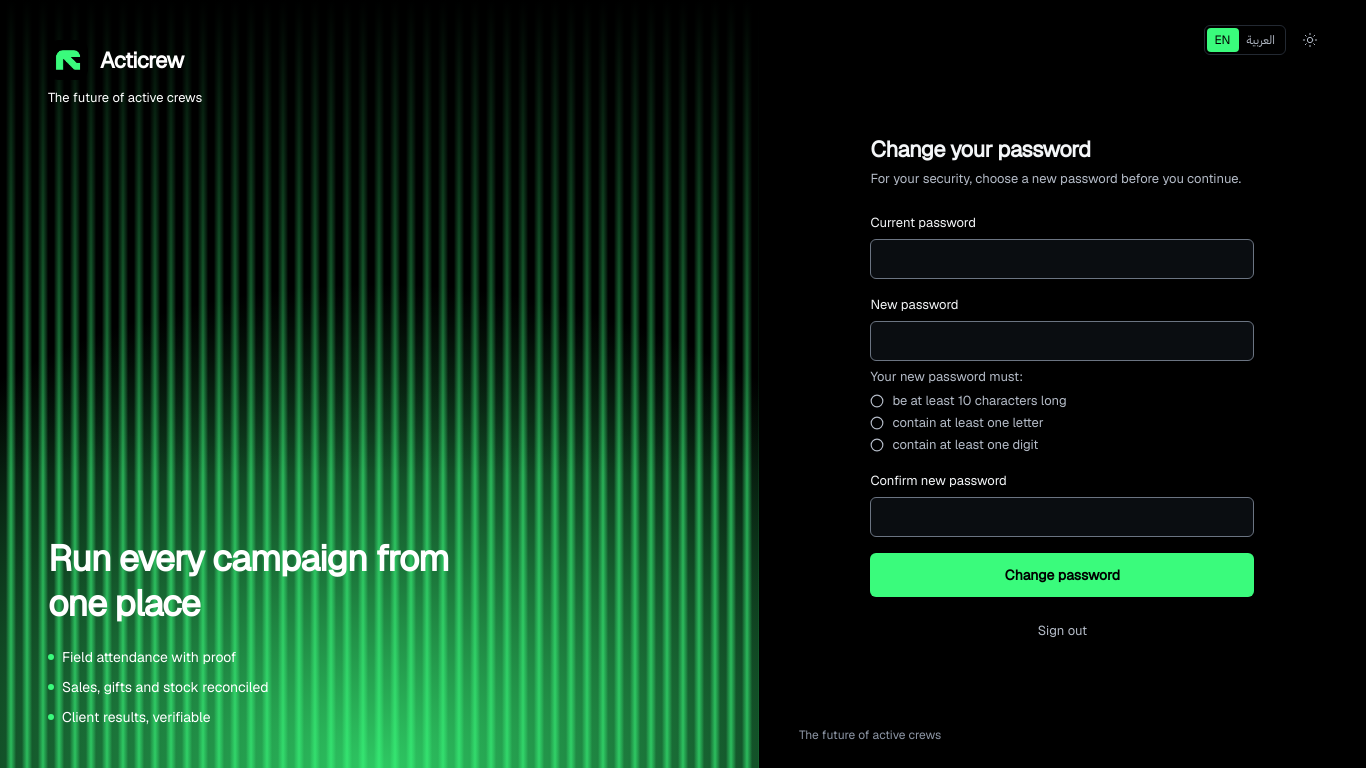
Test: change password page › maps CURRENT_PASSWORD_INCORRECT to the current-password field
Expected: the heading "Change your password" is shown, [870,134,1090,162]
Type "wrong-pass-1" into the password field labelled "Current password" at (1062, 258), box [870,238,1254,278]
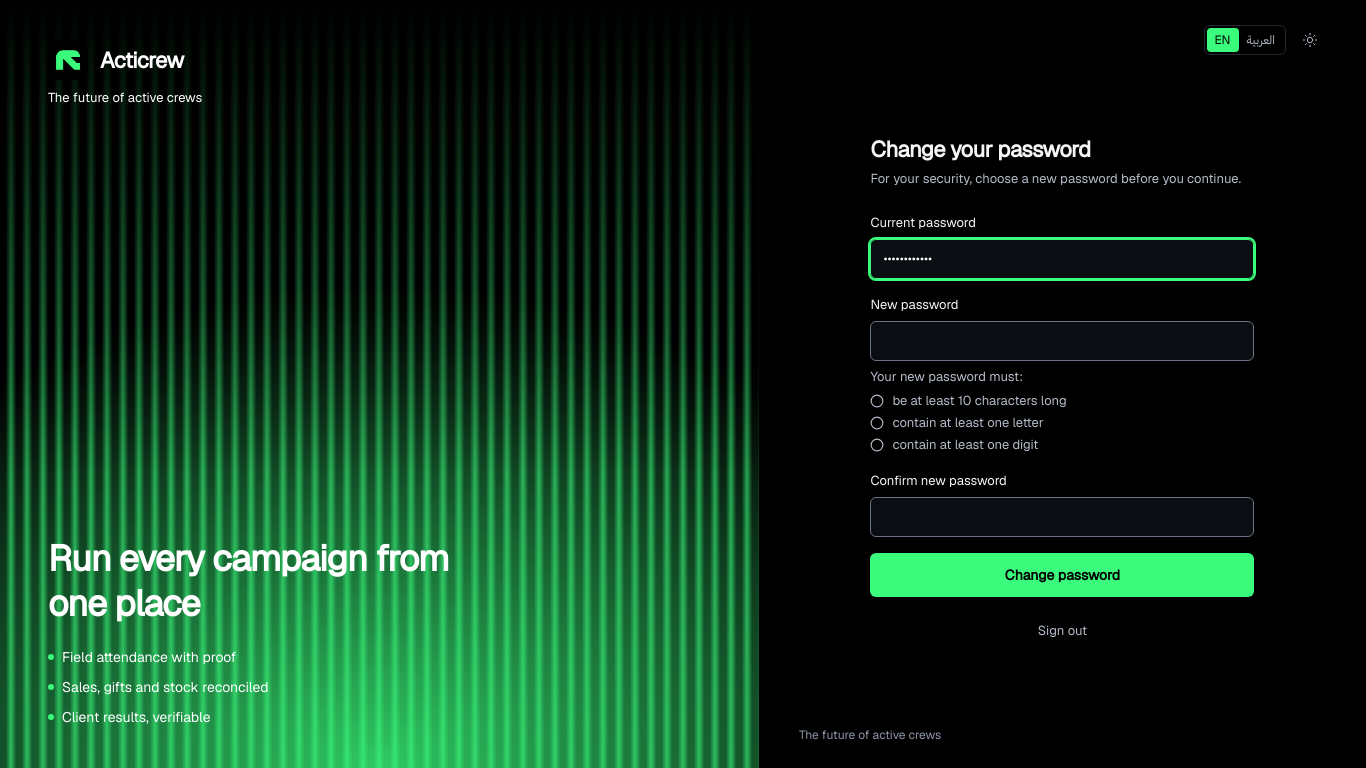
Type "brand-new-pass-9" into the password field labelled "New password" at (1062, 340), box [870,320,1254,360]
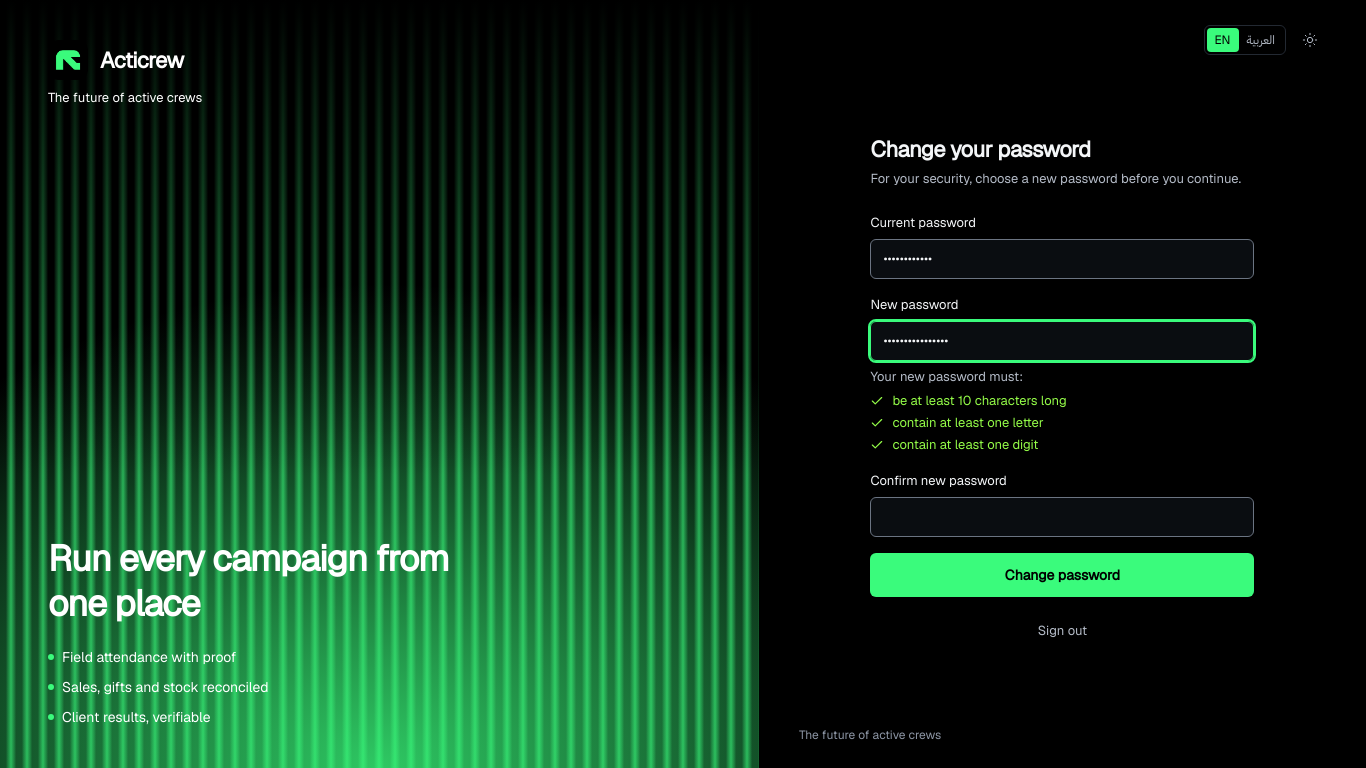
Type "brand-new-pass-9" into the password field labelled "Confirm new password" at (1062, 516), box [870,496,1254,536]
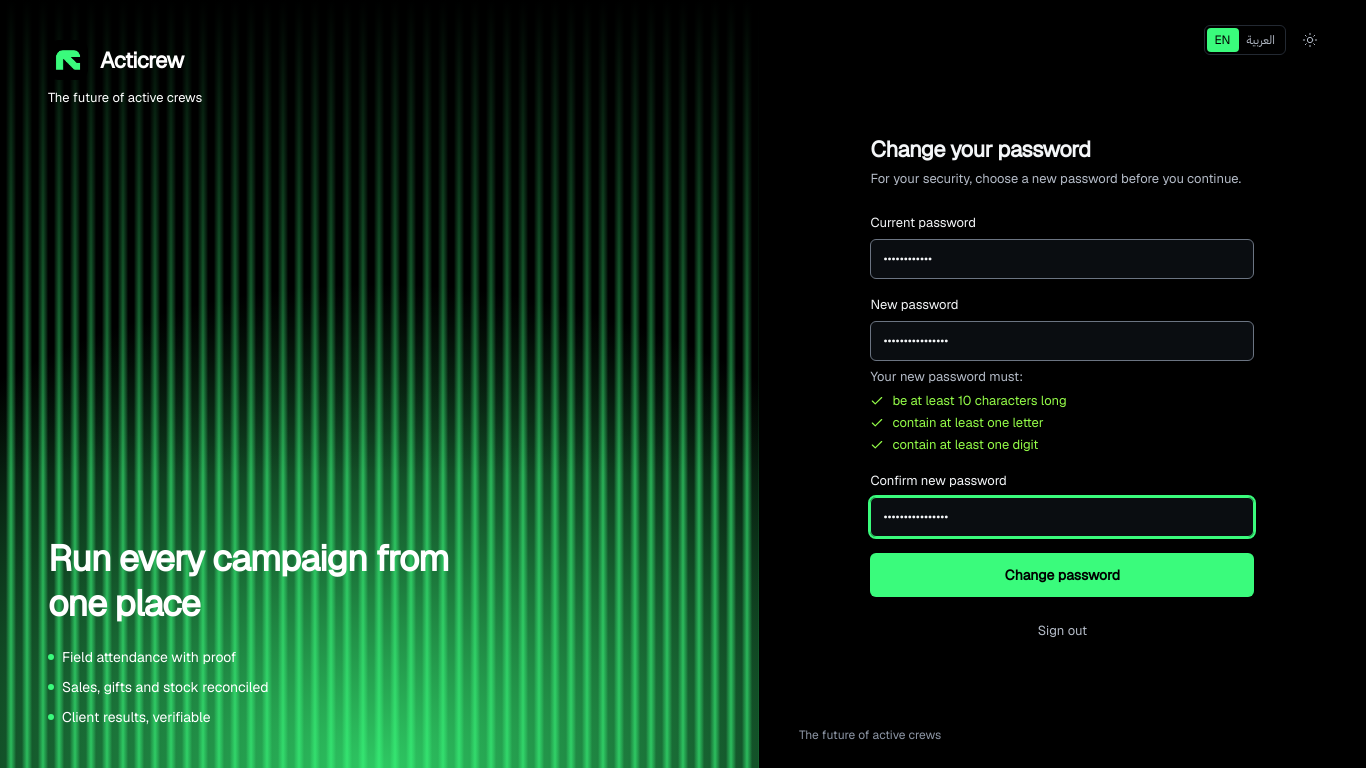
Click the button "Change password" at (1062, 574), box [870,552,1254,596]
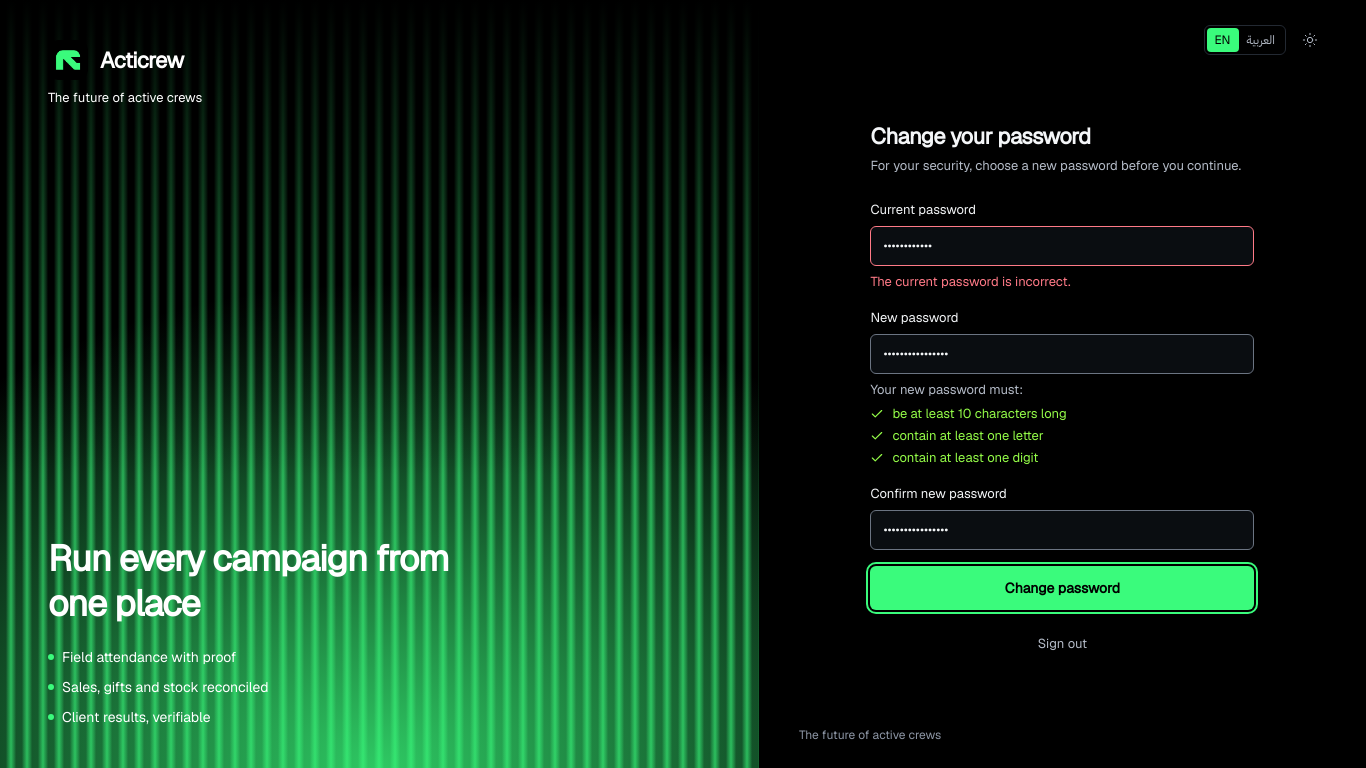
Now the text "The current password is incorrect." is shown, box [870,272,1071,290]
